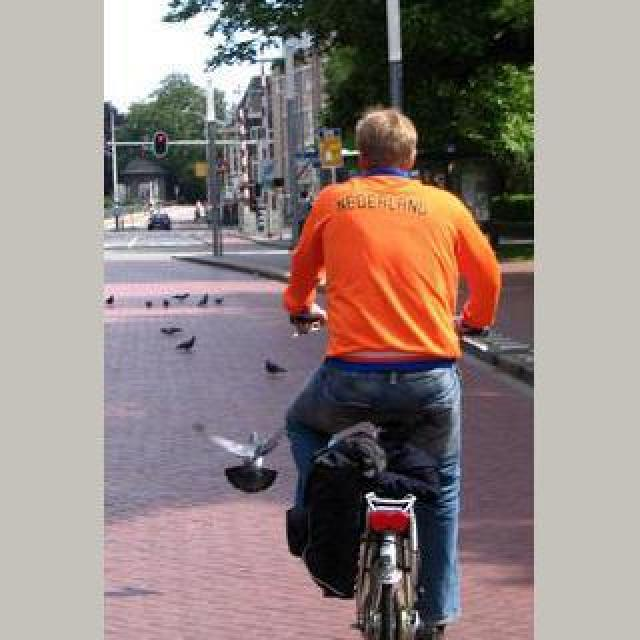MC-Bike: (278, 108, 500, 634)
Person: (352, 490, 422, 640)
